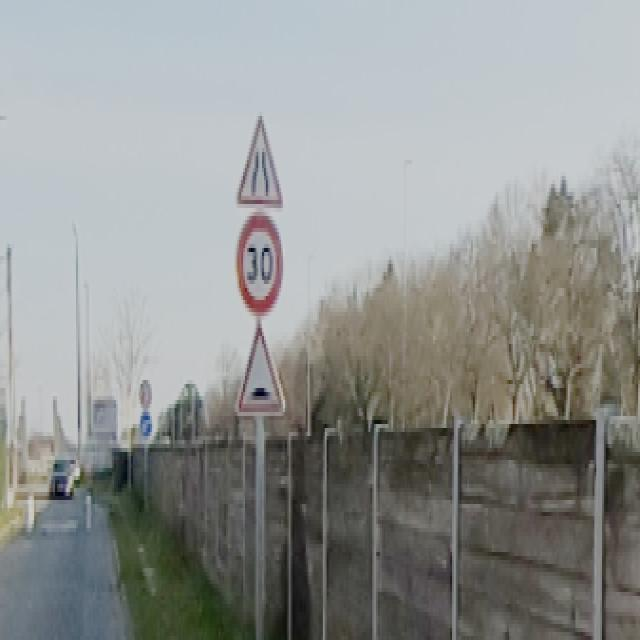speed_30: (235, 212, 283, 312)
